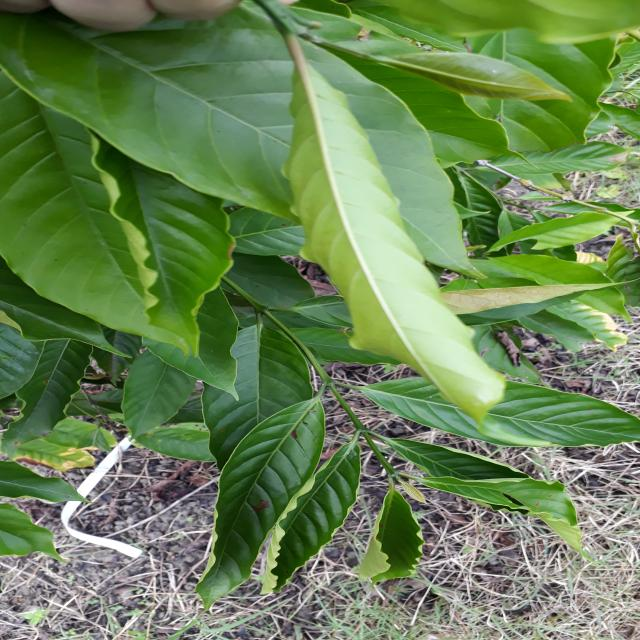Sanas: (285, 36, 508, 424)
